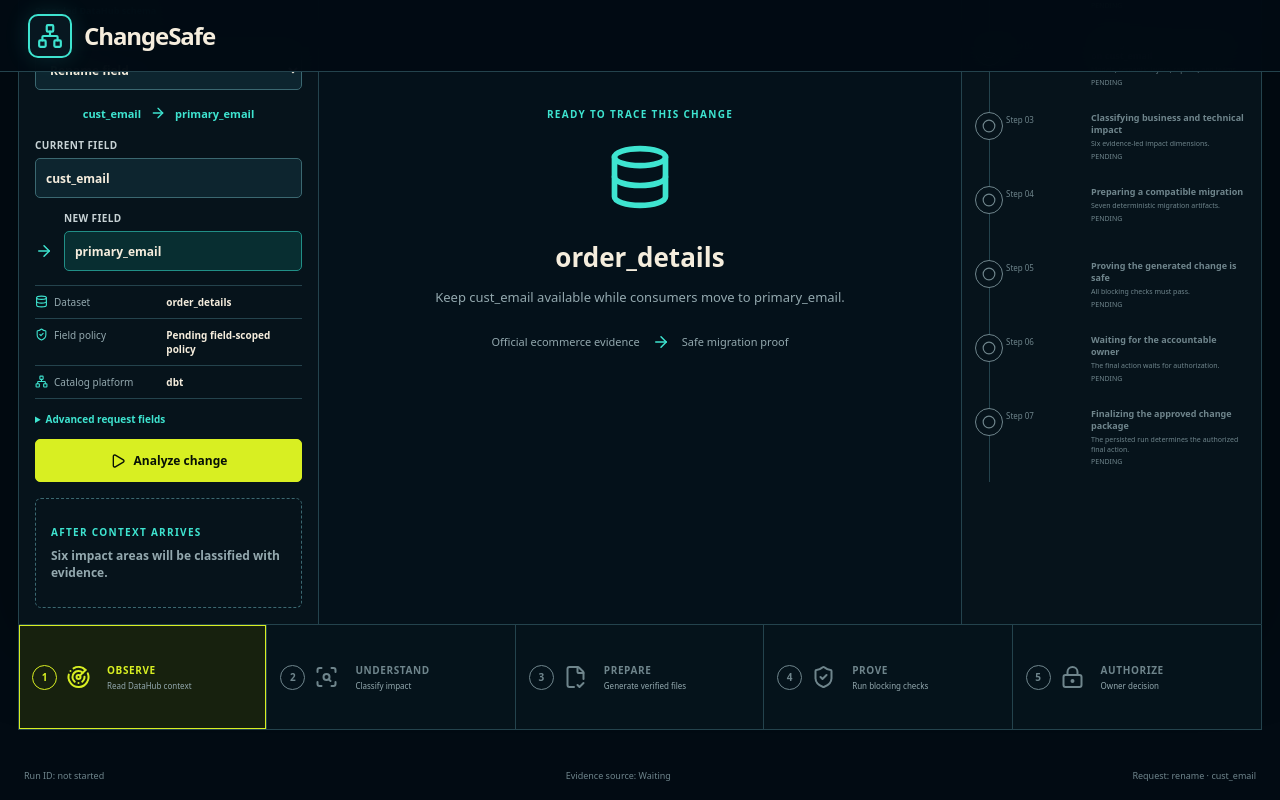
Scenario: ChangeSafe workspace › retries one confirmed nonterminal stream disconnect before reporting it
(page scrolled)
Click the button "Analyze change" at [168, 461], box x1=35 y1=439 x2=302 y2=482
(page scrolled)
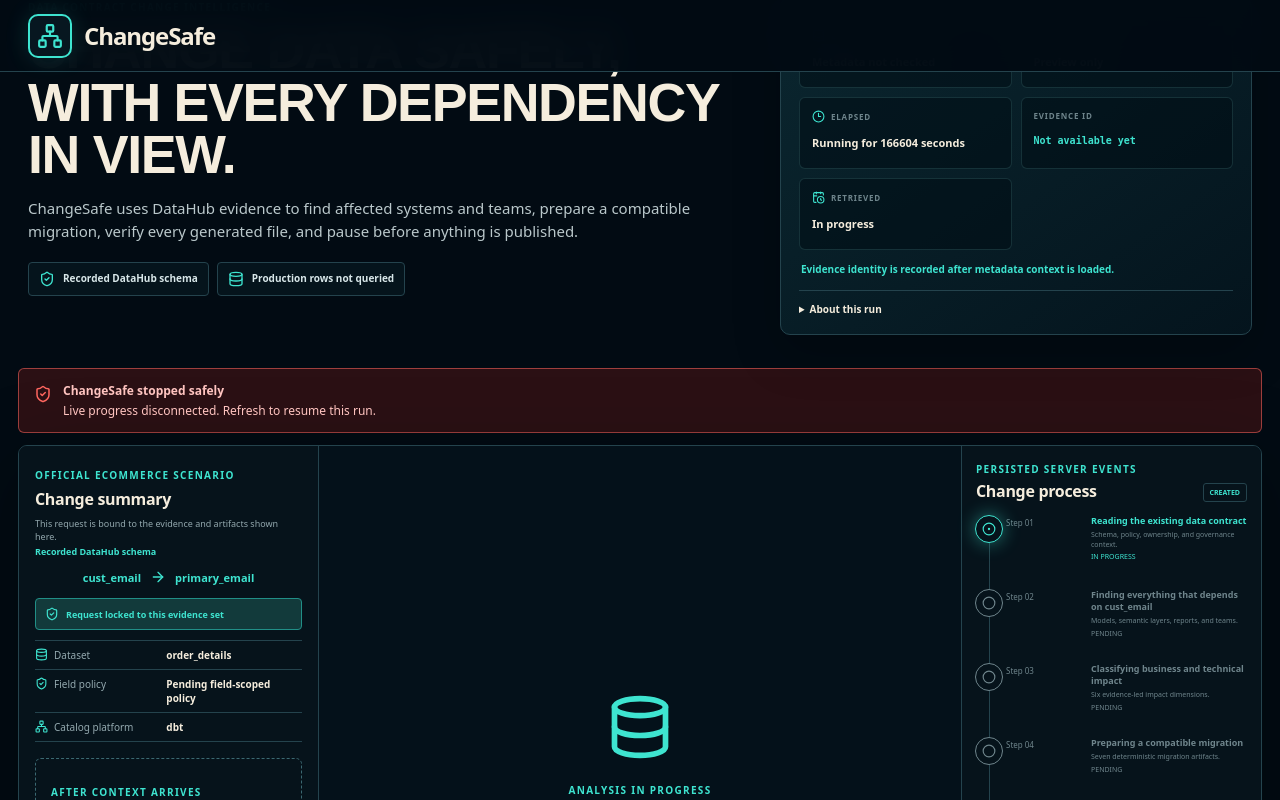
Now the text "Live progress disconnected. Refresh to resume this run." is shown, box x1=63 y1=402 x2=376 y2=419
